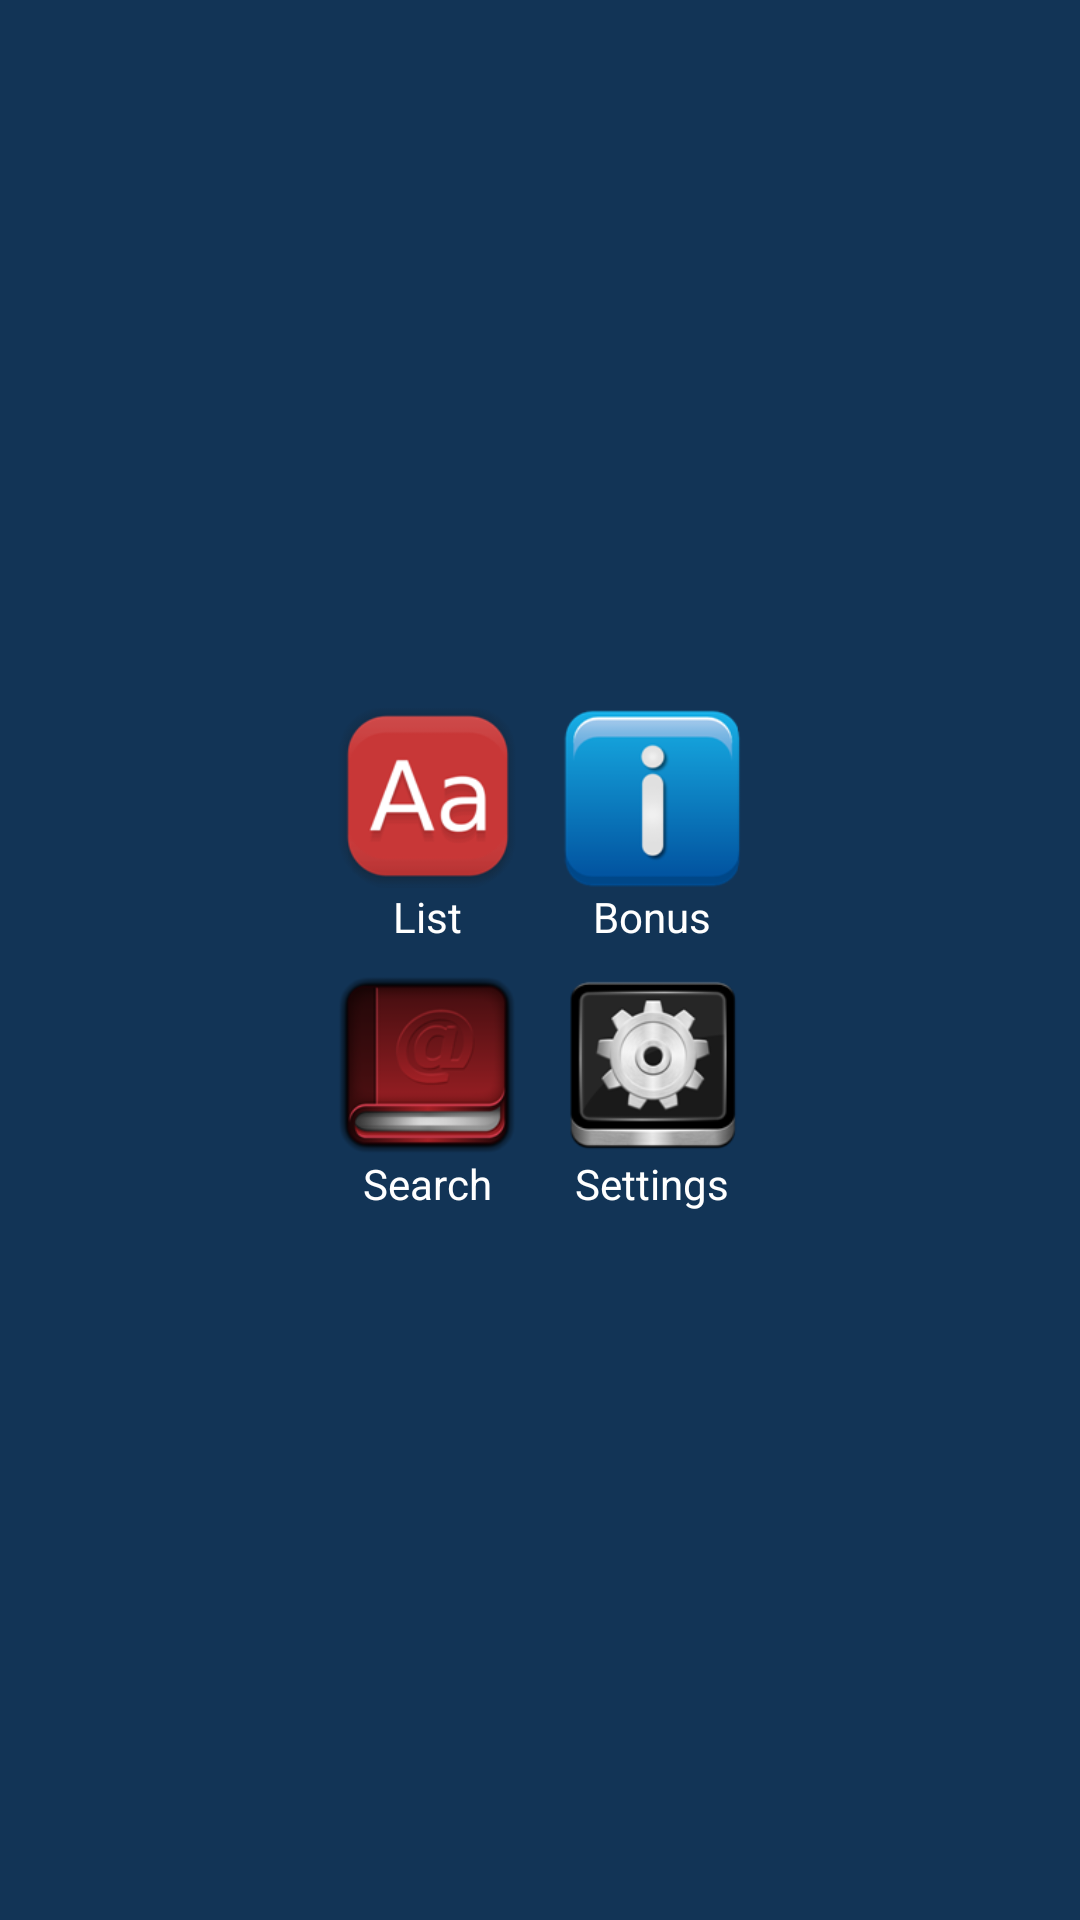

Where icons sit on this 1080 x 1920 app screen, as (x1, y1, x2, y2):
book: (342, 980, 512, 1150)
